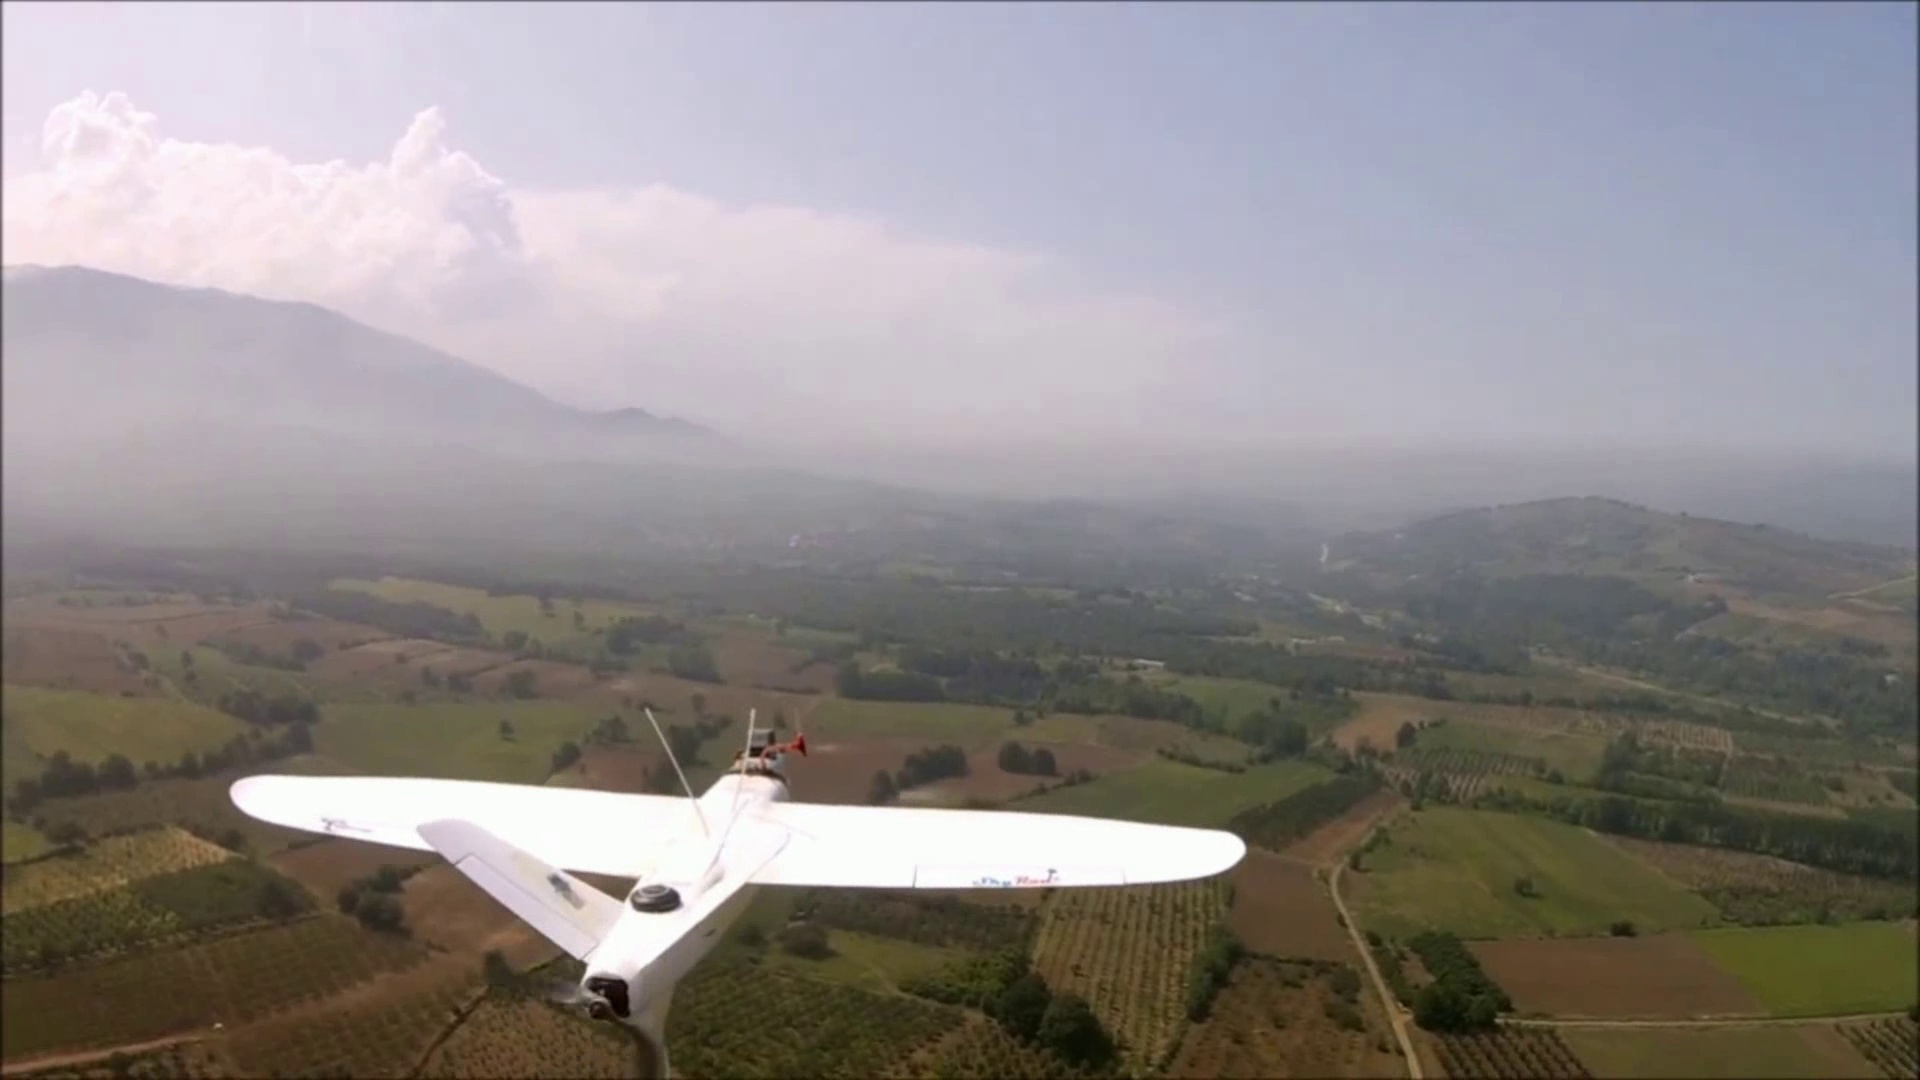airplane: (229, 724, 1247, 1069)
